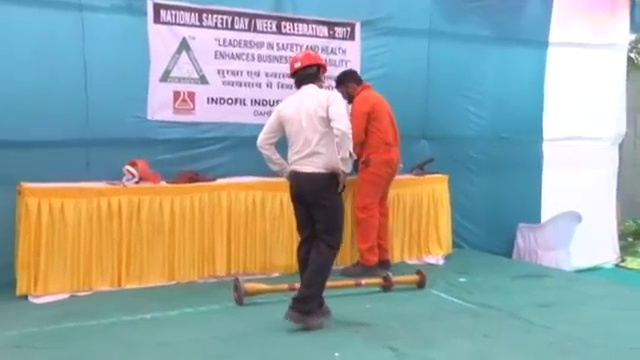helmet: (287, 48, 328, 78)
helmet_off: (334, 69, 365, 102)
helmet_on: (285, 48, 329, 93)
person: (256, 50, 353, 334), (333, 70, 398, 273)
